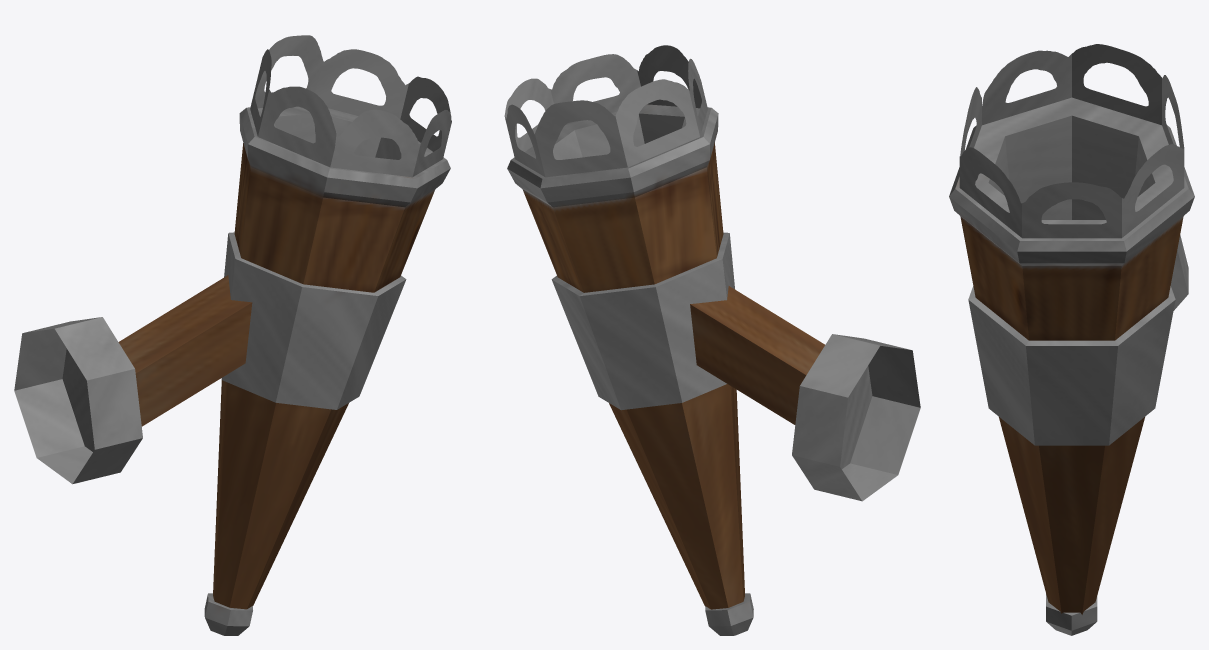
The model's file is Torch.fbx.
3 views of the same model, side by side, from view 1: azimuth 30°, elevation 25°; view 2: azimuth 150°, elevation 25°; view 3: azimuth 270°, elevation 25° (orthographic). The views are drawn at different scales.
Parts seen in each view (by area): view 1: polySurface1, pCylinder1, polySurface2, pCube2, pSphere1; view 2: polySurface1, pCylinder1, polySurface2, pCube2, pSphere1; view 3: polySurface1, polySurface2, pSphere1, pCylinder1.
Part boxes in pixels (x1,y1,x2,y2): polySurface1: [213, 106, 450, 609]; pCylinder1: [14, 317, 142, 484]; polySurface2: [250, 35, 451, 177]; pCube2: [118, 275, 252, 426]; pSphere1: [204, 593, 252, 635]; polySurface1: [507, 104, 744, 609]; pCylinder1: [792, 334, 920, 501]; polySurface2: [504, 45, 707, 177]; pCube2: [690, 286, 824, 424]; pSphere1: [705, 593, 753, 635]; polySurface1: [949, 97, 1194, 614]; polySurface2: [959, 44, 1184, 238]; pSphere1: [1046, 594, 1097, 635]; pCylinder1: [1170, 235, 1188, 310].
Bounding box in the file's own units: 1.3 × 1.9 × 0.6544.
Materials: 1 (1 with a texture image).
